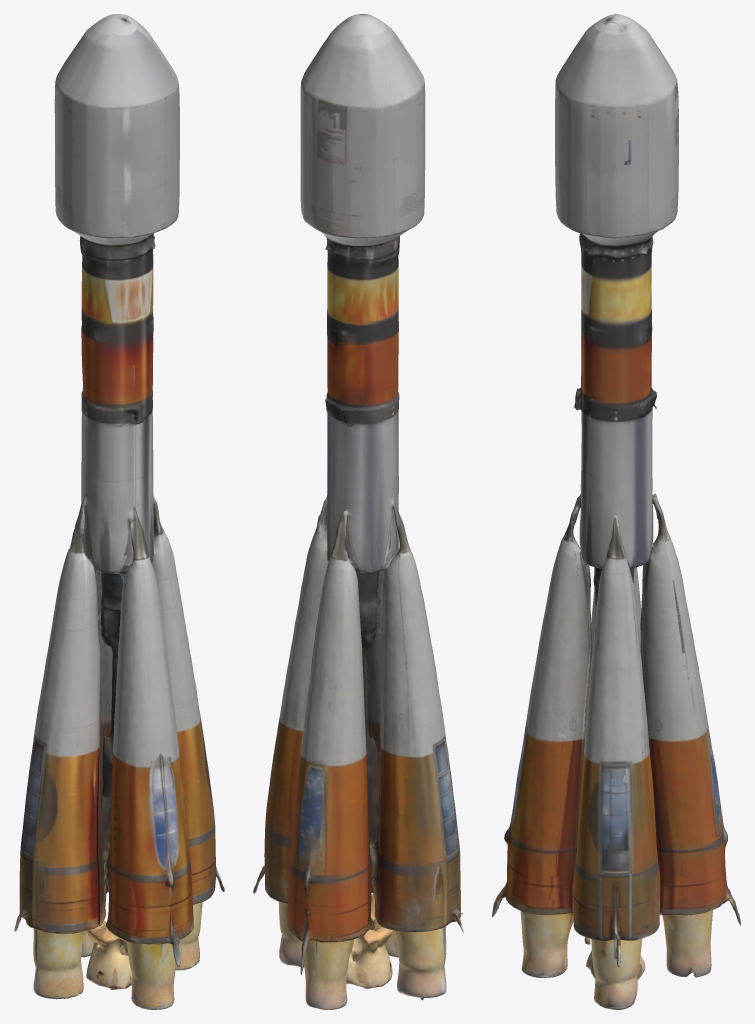
3 views of the same model, side by side, from view 1: azimuth 30°, elevation 25°; view 2: azimuth 150°, elevation 25°; view 3: azimuth 270°, elevation 25° (orthographic).
Visible parts, largest first — view 1: Mesh_0; view 2: Mesh_0; view 3: Mesh_0.
Part boxes in pixels (left/top/right/bottom): Mesh_0: left=14, top=14, right=224, bottom=1009; Mesh_0: left=253, top=14, right=463, bottom=1009; Mesh_0: left=492, top=14, right=740, bottom=1009.
Size of the model in its own units: 0.4083 by 1.8 by 0.4204.
Materials: 1 (1 with a texture image).
